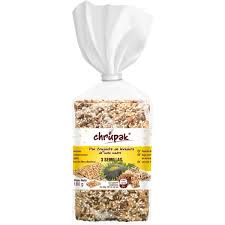bread: (66, 9, 160, 222)
